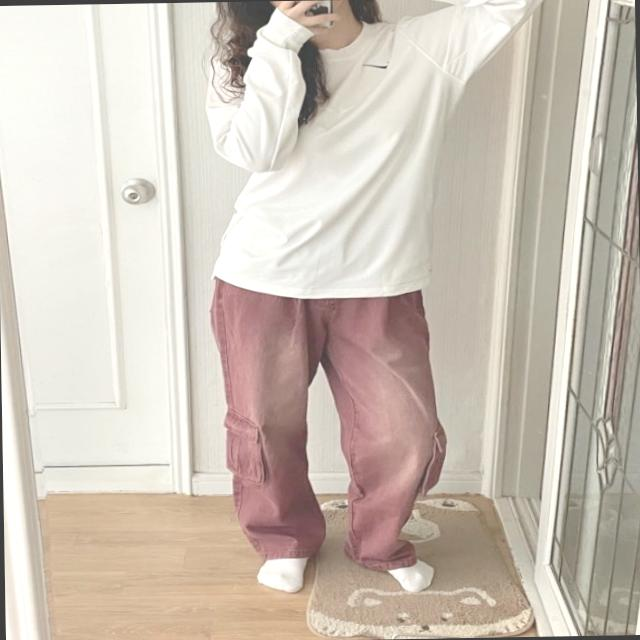cottonpants: (210, 266, 449, 578)
longsleeve: (204, 0, 559, 298)
